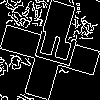E: (25, 25, 78, 70)
